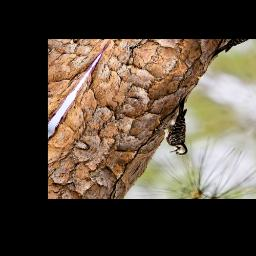Woodpecker: (145, 92, 218, 159)
